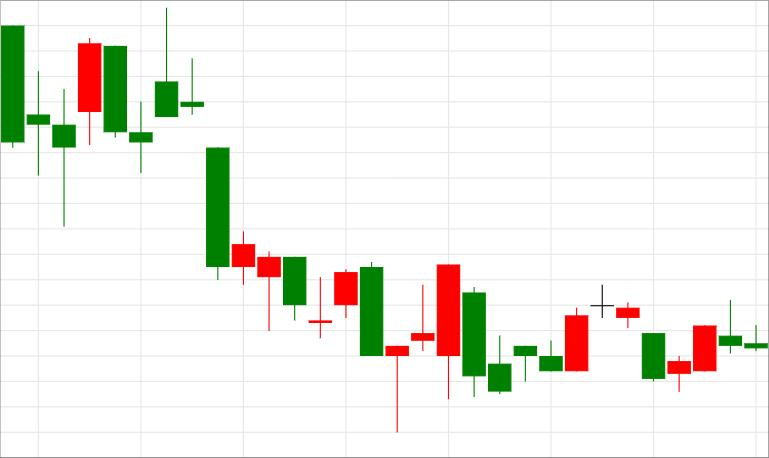morning_star_rise: (155, 8, 358, 338)
